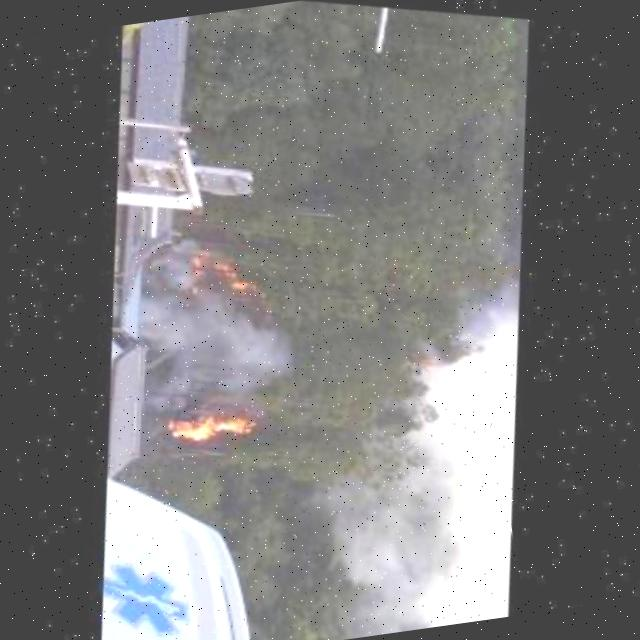fire: (162, 397, 262, 463), (214, 251, 270, 301), (187, 255, 212, 302)
